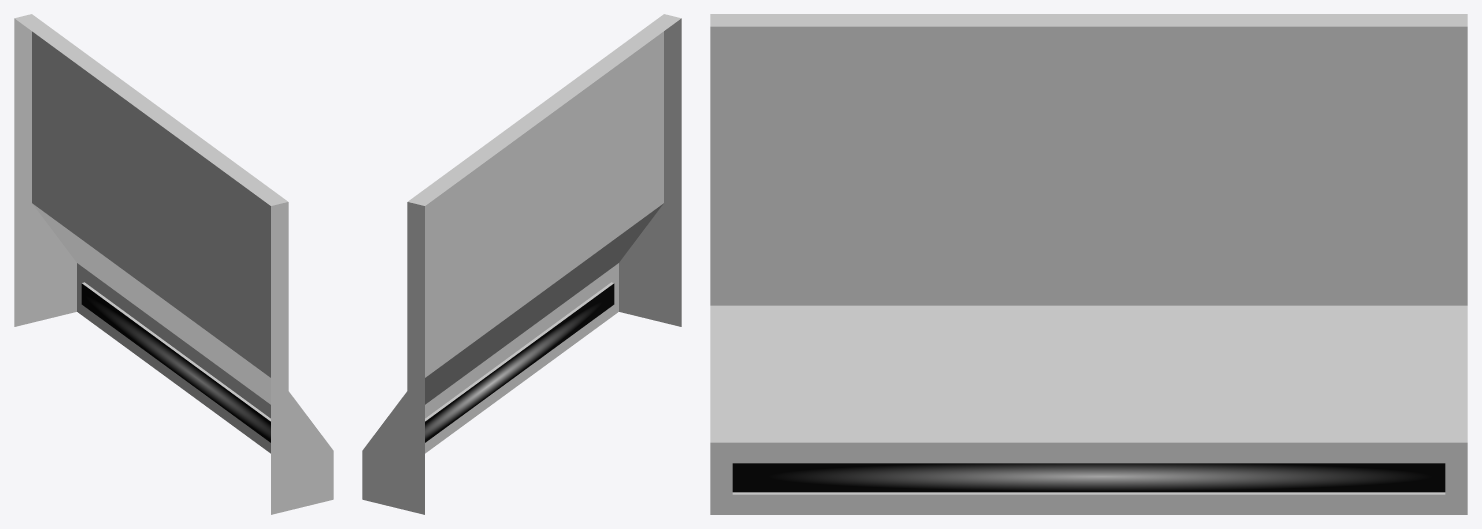
The model's file is corridor-wall01.fbx.
3 renders of one model, left to right at view 1: azimuth 30°, elevation 25°; view 2: azimuth 150°, elevation 25°; view 3: azimuth 270°, elevation 25°, orthographic. The views are drawn at different scales.
Visible parts, largest first — view 1: Cube; view 2: Cube; view 3: Cube.
Boxes of the visible parts, x1,y1,x2,y2 form: Cube: [14, 14, 333, 514]; Cube: [362, 14, 681, 514]; Cube: [710, 14, 1467, 514].
Size of the model in its own units: 67.75 by 319 by 480.
